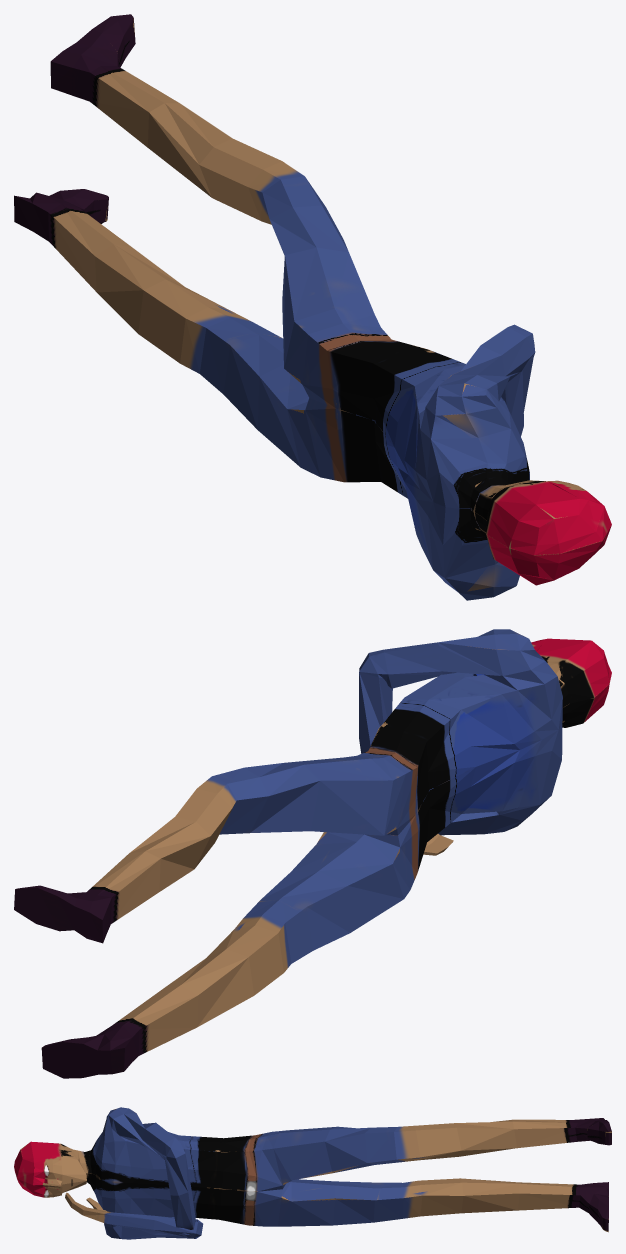
Rendered from mirrorman_000020.obj.
The picture shows the model from 3 angles, top to bottom: view 1: azimuth 30°, elevation 25°; view 2: azimuth 150°, elevation 25°; view 3: azimuth 270°, elevation 25°; orthographic projection. The views are drawn at different scales.
Parts seen in each view (by area): view 1: mirrorman_Cube.001_Material.001; view 2: mirrorman_Cube.001_Material.001; view 3: mirrorman_Cube.001_Material.001.
Part boxes in pixels (x1,y1,x2,y2): mirrorman_Cube.001_Material.001: [14, 14, 611, 600]; mirrorman_Cube.001_Material.001: [14, 629, 611, 1078]; mirrorman_Cube.001_Material.001: [14, 1107, 611, 1239].
Size of the model in its own units: 0.3296 by 0.4627 by 1.9.
